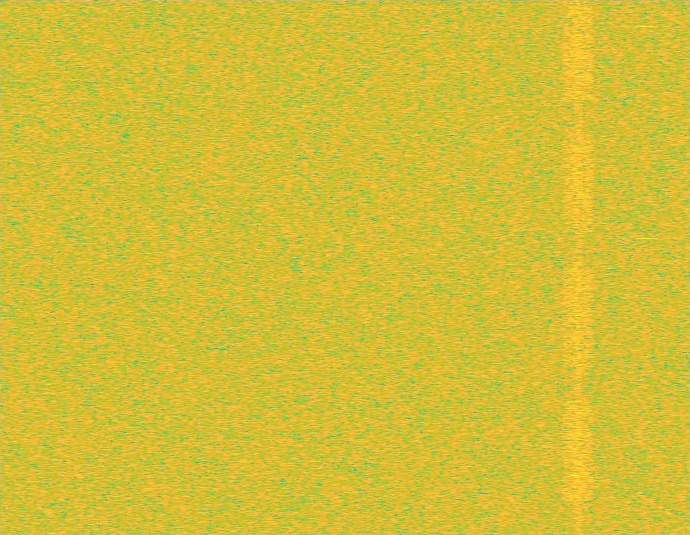5G: (561, 0, 596, 534)
DSSS: (574, 0, 582, 534)
Radar: (640, 0, 654, 534)
